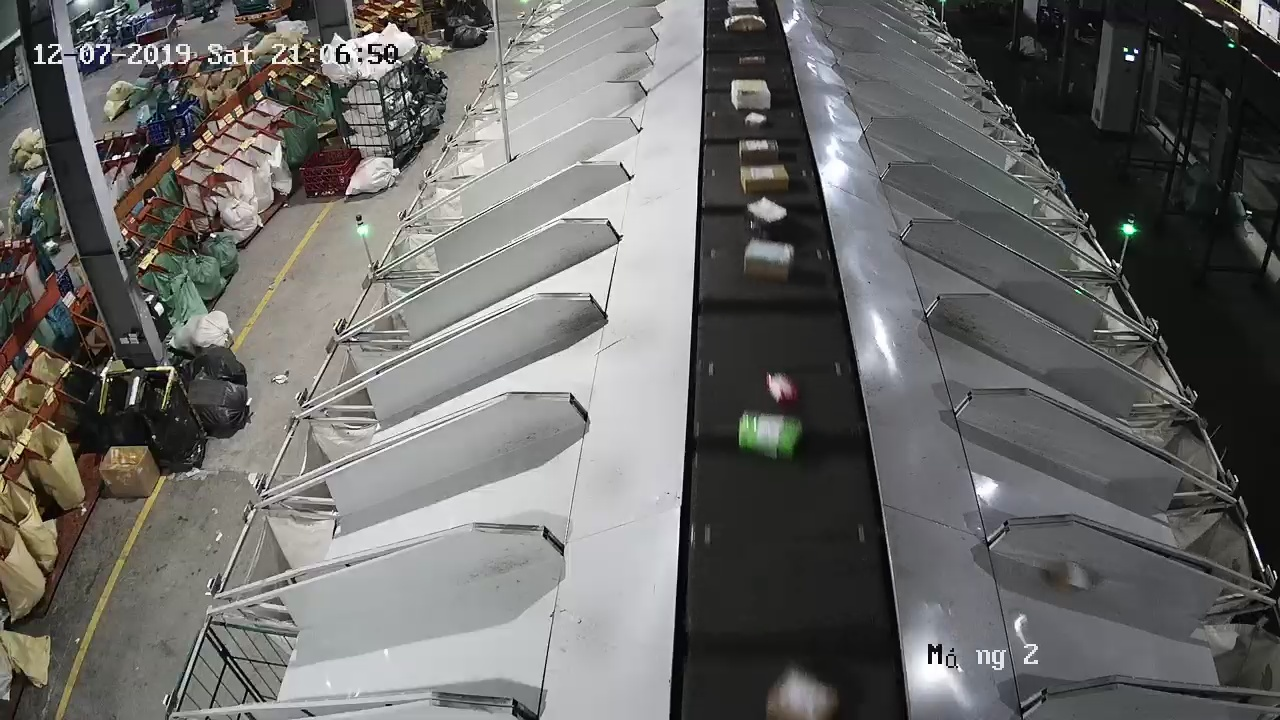parcel: (1048, 560, 1092, 595)
